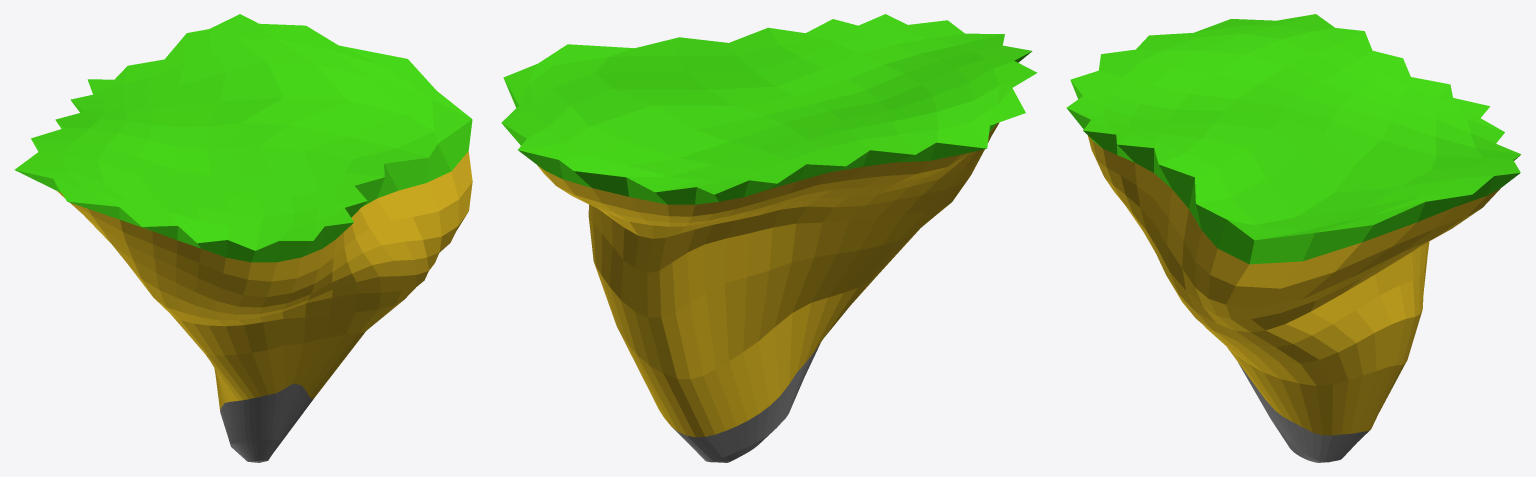
Rendered from floating_island.glb.
3 renders of one model, left to right at view 1: azimuth 30°, elevation 25°; view 2: azimuth 150°, elevation 25°; view 3: azimuth 270°, elevation 25°, orthographic. The views are drawn at different scales.
Visible parts, largest first — view 1: floating island; view 2: floating island; view 3: floating island.
Boxes of the visible parts, x1,y1,x2,y2 form: floating island: (14,14,472,462); floating island: (501,14,1037,462); floating island: (1066,14,1520,462).
Bounding box in the file's own units: 2.9 × 2.3 × 2.78.
